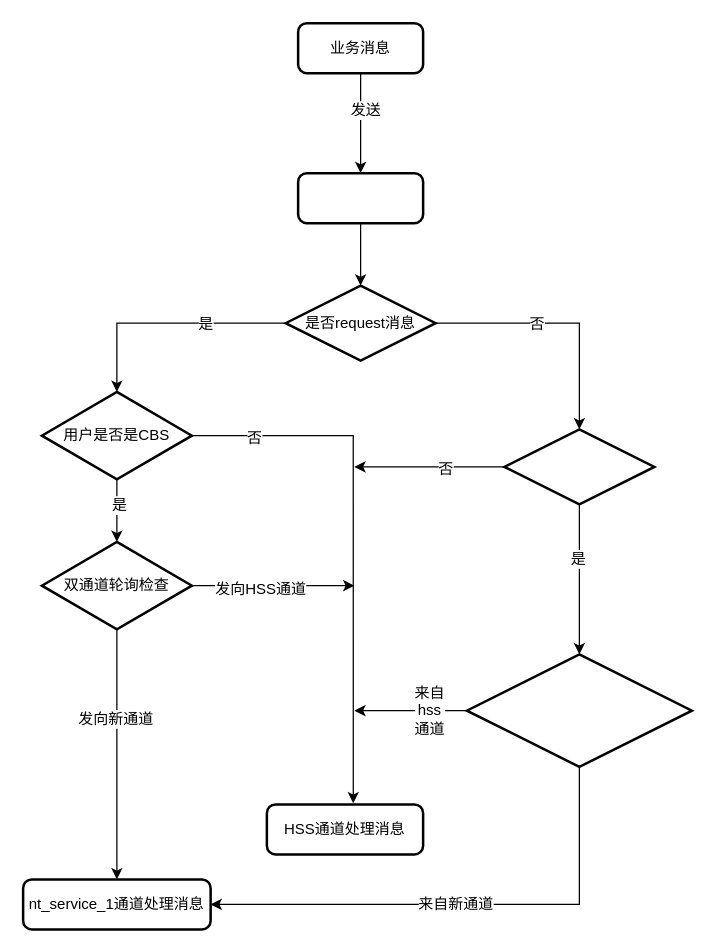
Image size: 714x951. Some labels were removed from this diagram. Here are the shapes that lost their labels. From the top down, the centre of each, then its label:
At point 360,197: "HSS模块".
At point 578,466: "是否response消息".
At point 578,710: "检查response消息对应的request消息来自哪个通道".
